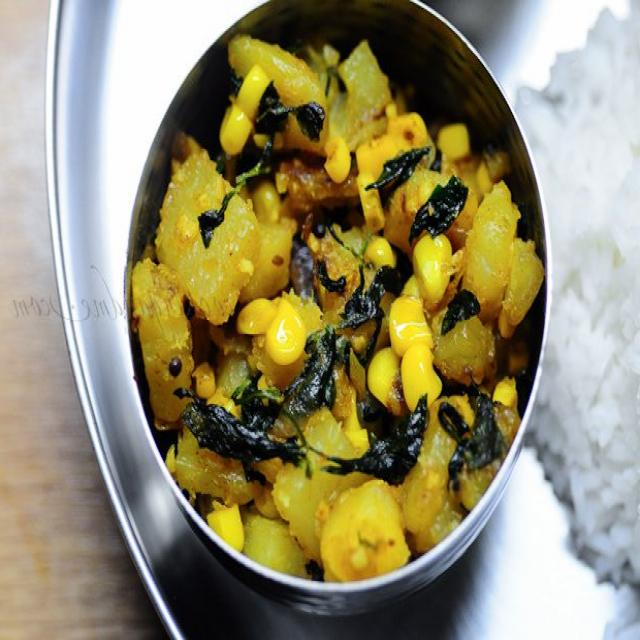Aloo Methi: (135, 51, 530, 569)
